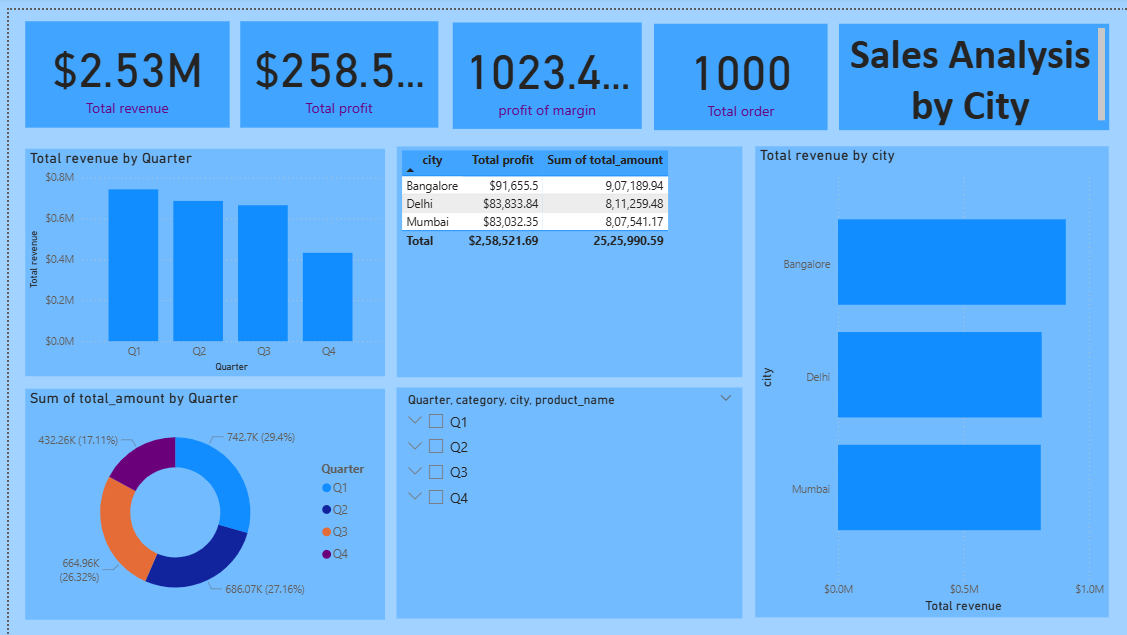

Layout of this report page (visuals, bound fields, positions):
{"tool":"powerbi","page":{"name":"Page 3","canvas":[1280,720],"ordinal":2},"visuals":[{"type":"card","fields":{"Values":["Factsales.Total profit"]},"box":[263.8,12.5,226.2,121.2],"z":0},{"type":"card","fields":{"Values":["Factsales.Total revenue"]},"box":[18.8,12.5,233.8,121.2],"z":1000},{"type":"card","fields":{"Values":["Factsales.profit of margin"]},"box":[507.5,13.8,216.2,121.2],"z":2000},{"type":"card","fields":{"Values":["Factsales.Total order"]},"box":[737.5,15,198.8,121.2],"z":3000},{"type":"lineClusteredColumnComboChart","fields":{"Category":["Dim calender.Quarter"],"Y":["Factsales.Total revenue"]},"box":[18.8,158.8,411.2,260],"z":4000},{"type":"barChart","fields":{"Y":["Factsales.Total revenue"],"Category":["Factsales.city"]},"box":[852.5,156.2,403.8,538.8],"z":5000},{"type":"donutChart","fields":{"Y":["Sum(Factsales.total_amount)"],"Category":["Dim calender.Quarter"]},"box":[18.8,432.5,411.2,263.8],"z":6000},{"type":"tableEx","fields":{"Values":["Factsales.city","Factsales.Total profit","Sum(Factsales.total_amount)"]},"box":[442.5,156.2,395,263.8],"z":7000},{"type":"slicer","fields":{"Values":["Dim calender.Quarter","Dim product.category","Factsales.city","Dim product.product_name"]},"box":[442.5,431.2,395,263.8],"z":8000},{"type":"textbox","box":[948.8,15,308.8,121.2],"z":9000}]}

Visuals, with their boxes in screenshot pixels (x1, y1, x2, y2), scaled from the page's 1280x720 canvas onto the 1127x635 screenshot:
card - Factsales.Total profit: (x1=232, y1=11, x2=431, y2=118)
card - Factsales.Total revenue: (x1=17, y1=11, x2=222, y2=118)
card - Factsales.profit of margin: (x1=447, y1=12, x2=637, y2=119)
card - Factsales.Total order: (x1=649, y1=13, x2=824, y2=120)
lineClusteredColumnComboChart - Dim calender.Quarter x Factsales.Total revenue: (x1=17, y1=140, x2=379, y2=369)
barChart - Factsales.Total revenue x Factsales.city: (x1=751, y1=138, x2=1106, y2=613)
donutChart - Sum(Factsales.total_amount) x Dim calender.Quarter: (x1=17, y1=381, x2=379, y2=614)
tableEx - Factsales.city x Factsales.Total profit: (x1=390, y1=138, x2=737, y2=370)
slicer - Dim calender.Quarter x Dim product.category: (x1=390, y1=380, x2=737, y2=613)
textbox: (x1=835, y1=13, x2=1107, y2=120)
